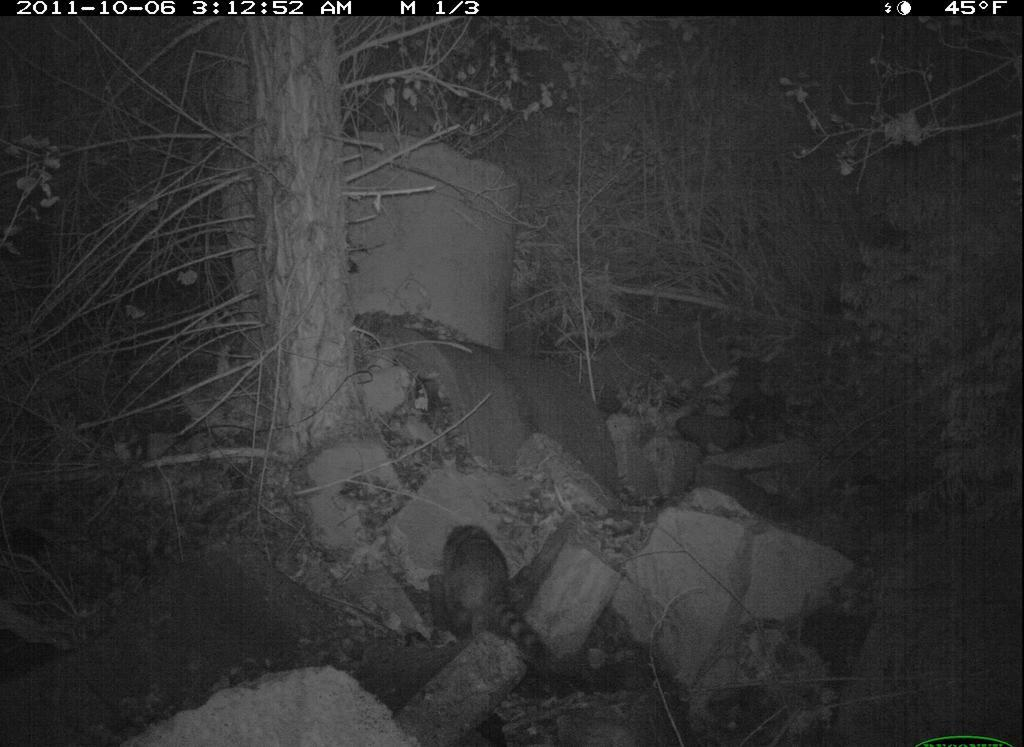raccoon: (437, 516, 559, 670)
